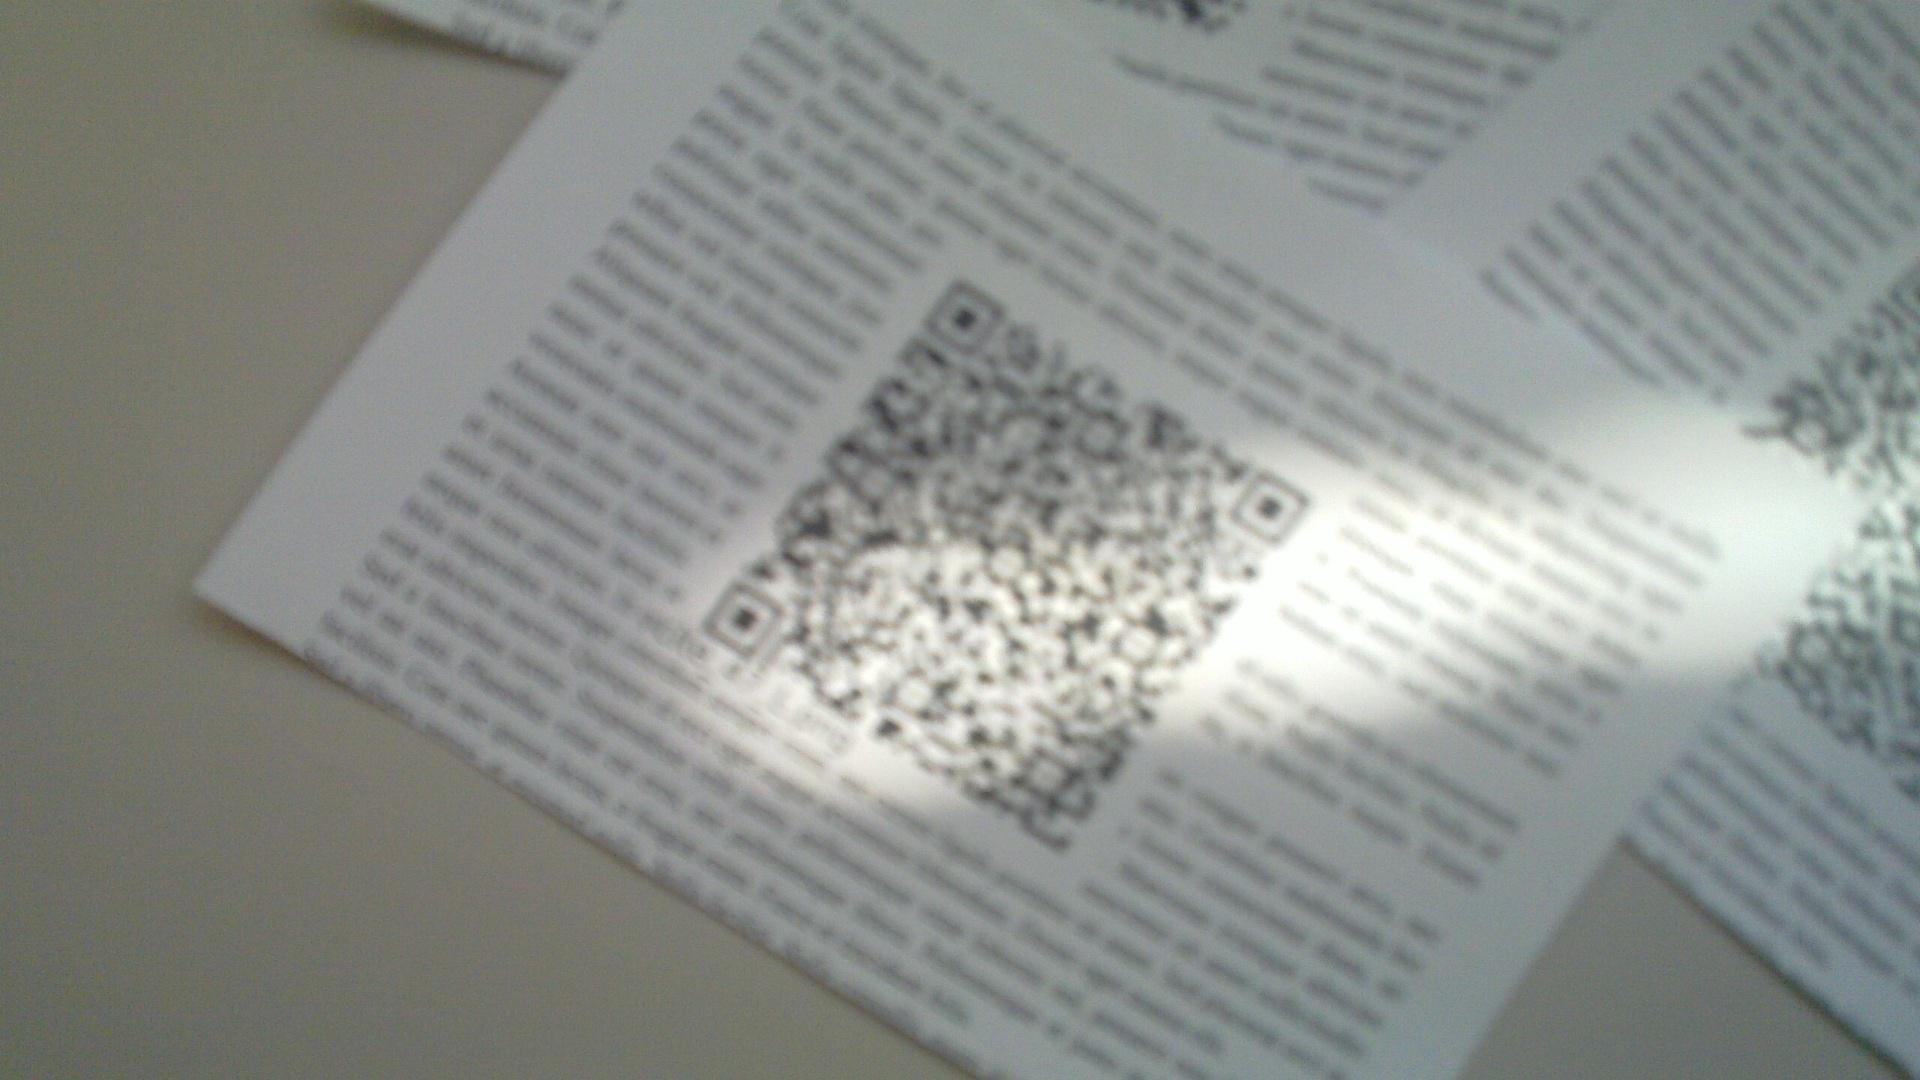qr_code: (703, 278, 1312, 852)
